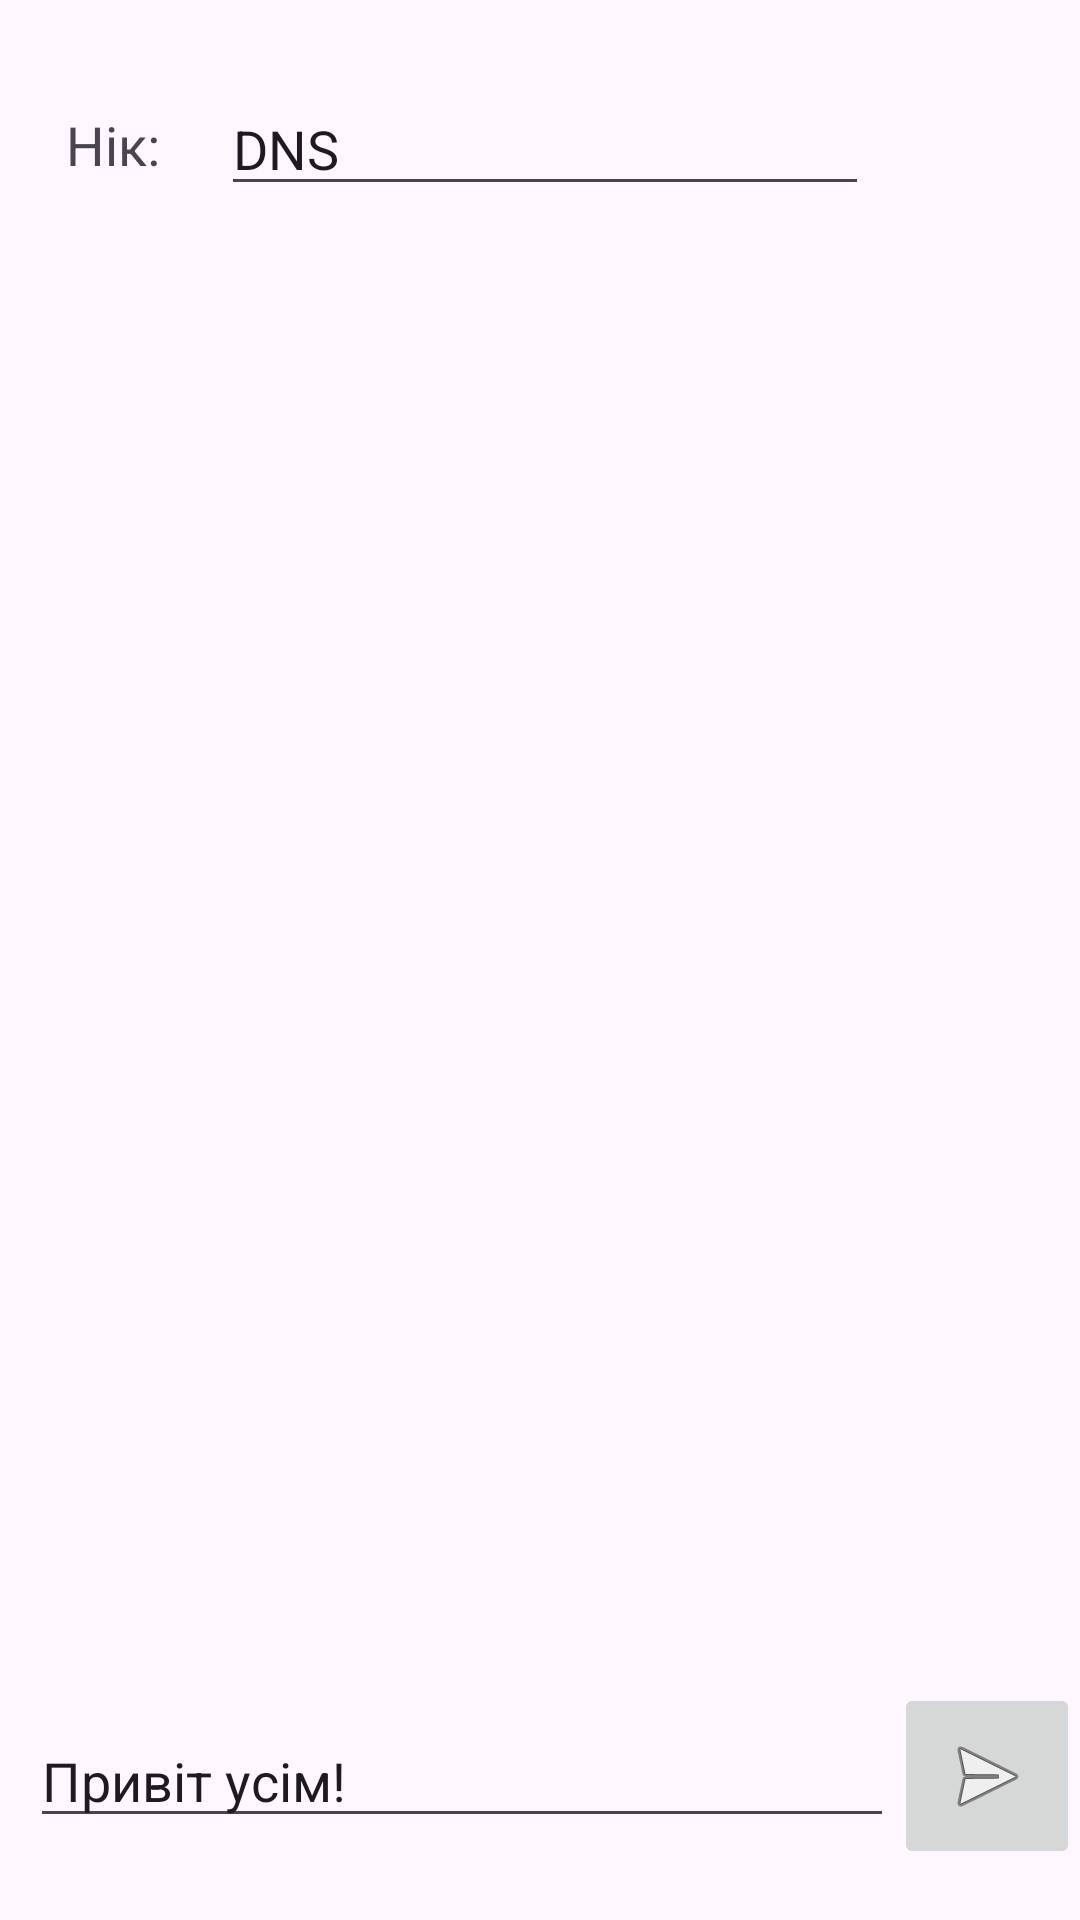

Named icons in this screenshot (1080 × 1920) and their bounding boxes, bbox=(x1, y1, x2, y2):
send: bbox=(906, 1701, 1068, 1851)
